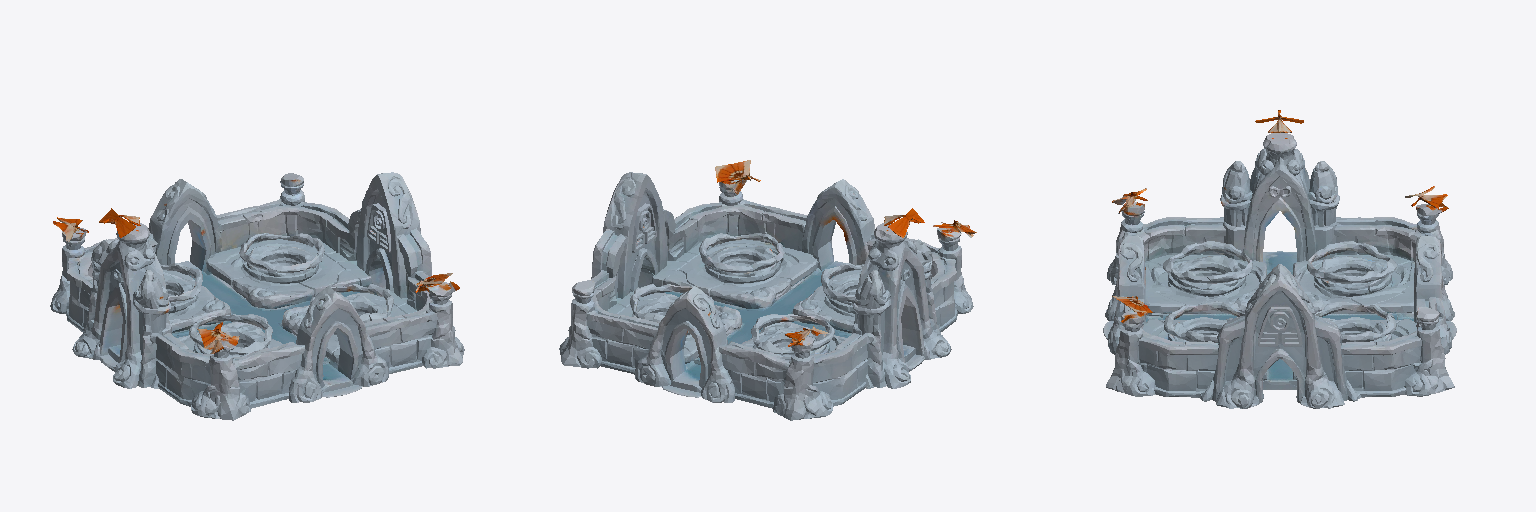
The picture shows the model from 3 angles: view 1: azimuth 30°, elevation 25°; view 2: azimuth 150°, elevation 25°; view 3: azimuth 270°, elevation 25°; orthographic projection.
Parts seen in each view (by area): view 1: tripo_node_d[number redacted]-7fbe-4e95-af07-8d46dede75a1; view 2: tripo_node_d[number redacted]-7fbe-4e95-af07-8d46dede75a1; view 3: tripo_node_d[number redacted]-7fbe-4e95-af07-8d46dede75a1.
Boxes of the visible parts, x1=… form: tripo_node_d[number redacted]-7fbe-4e95-af07-8d46dede75a1: x1=50, y1=172, x2=464, y2=420; tripo_node_d[number redacted]-7fbe-4e95-af07-8d46dede75a1: x1=559, y1=160, x2=976, y2=420; tripo_node_d[number redacted]-7fbe-4e95-af07-8d46dede75a1: x1=1103, y1=110, x2=1456, y2=408.
Bounding box in the file's own units: 1 × 0.4421 × 0.9513.
Materials: 1 (1 with a texture image).